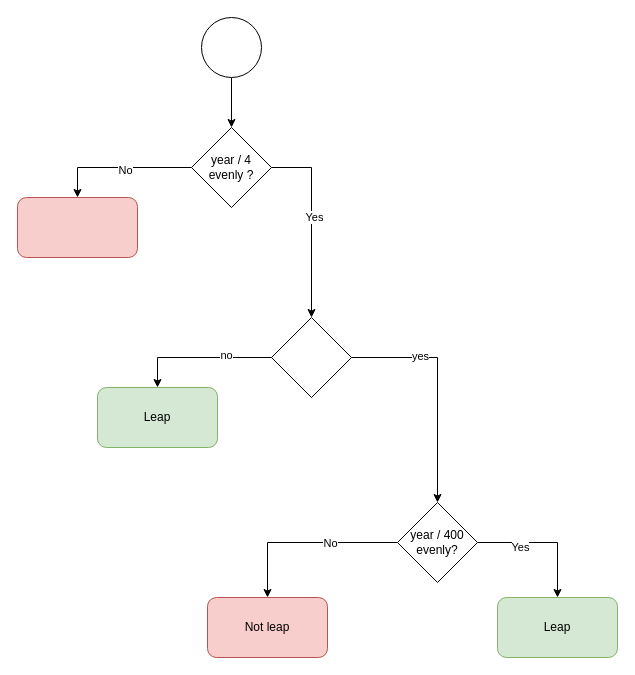
Image size: 635x675. Some labels were removed from this diagram. Each missing label, with the centre of its shape:
not leap year: point (77, 227)
Start: point (231, 47)
year / 100 evenly ?: point (311, 357)
